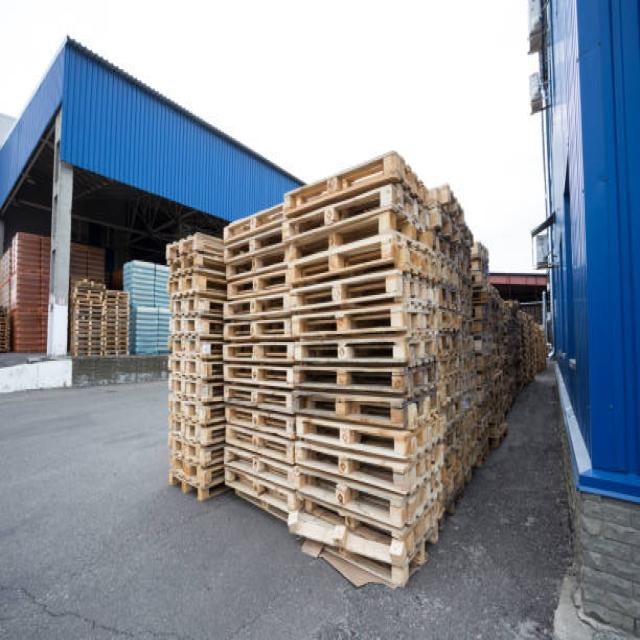Wooden-Pallets: (280, 140, 435, 225), (285, 431, 446, 496), (281, 357, 443, 406), (282, 267, 437, 318), (216, 443, 292, 498), (214, 391, 291, 438), (216, 309, 291, 355), (220, 222, 282, 271), (163, 459, 218, 511), (162, 352, 222, 394), (160, 234, 222, 265), (222, 274, 288, 299)
